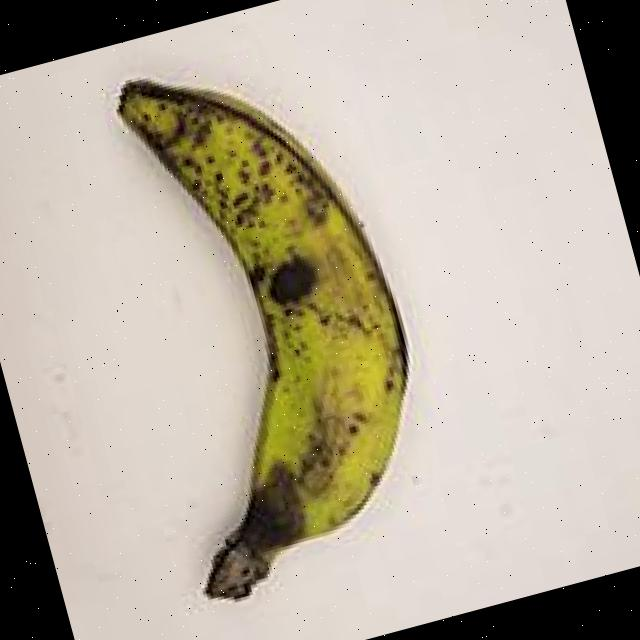Overripe: (0, 1, 490, 634)
